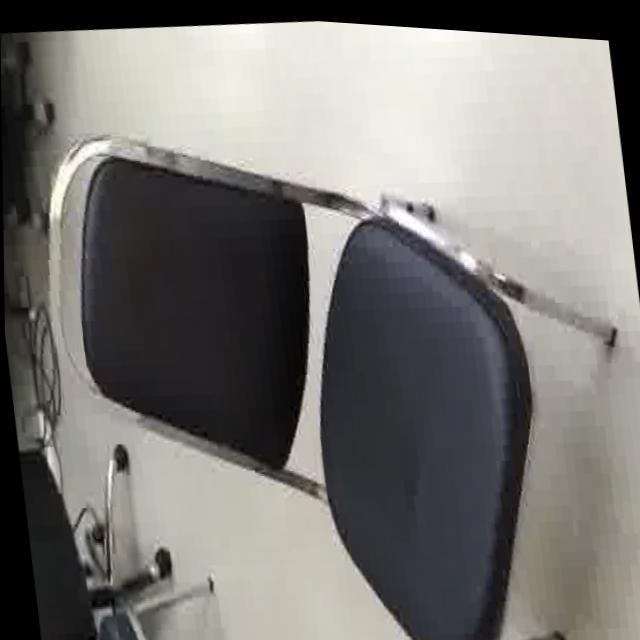chair: (4, 54, 640, 640)
